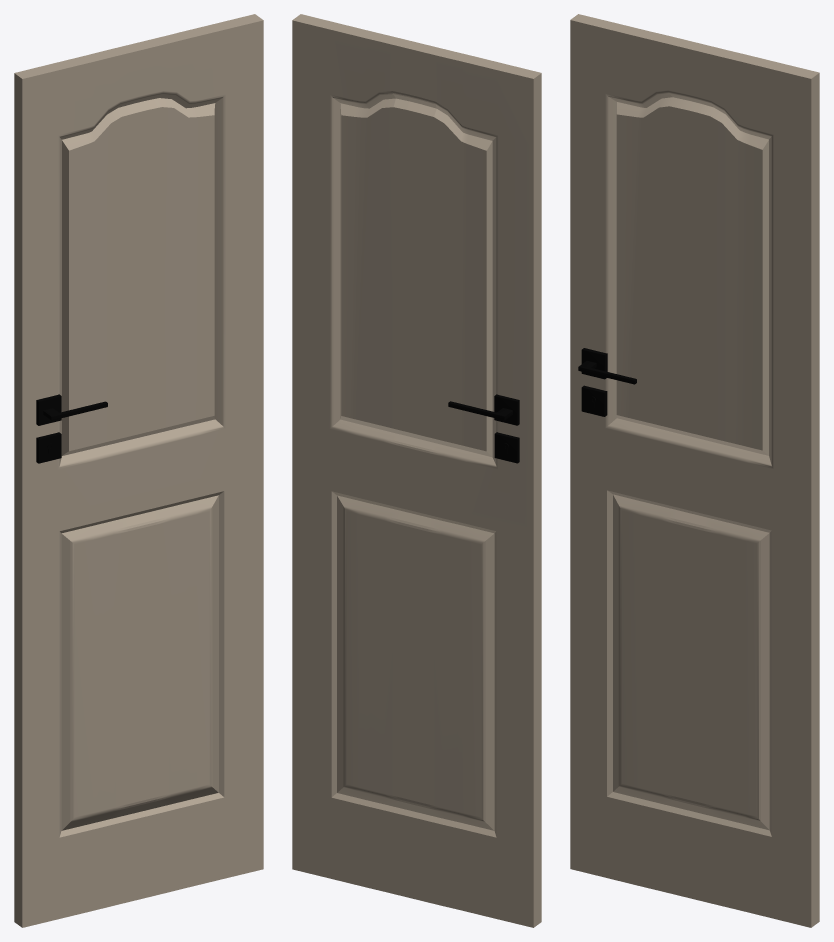
Rendered from SC_2_full1_door.glb.
3 views of the same model, side by side, from view 1: azimuth 30°, elevation 25°; view 2: azimuth 150°, elevation 25°; view 3: azimuth 330°, elevation 25° (orthographic).
Visible parts, largest first — view 1: SC_2__1_door_; view 2: SC_2__1_door_; view 3: SC_2__1_door_.
Part boxes in pixels (<box>): SC_2__1_door_: <box>14,14,263,927</box>; SC_2__1_door_: <box>292,14,541,927</box>; SC_2__1_door_: <box>570,14,819,927</box>.
Size of the model in its own units: 0.523 by 1.76 by 0.1089.
1 material, 1 textured.
